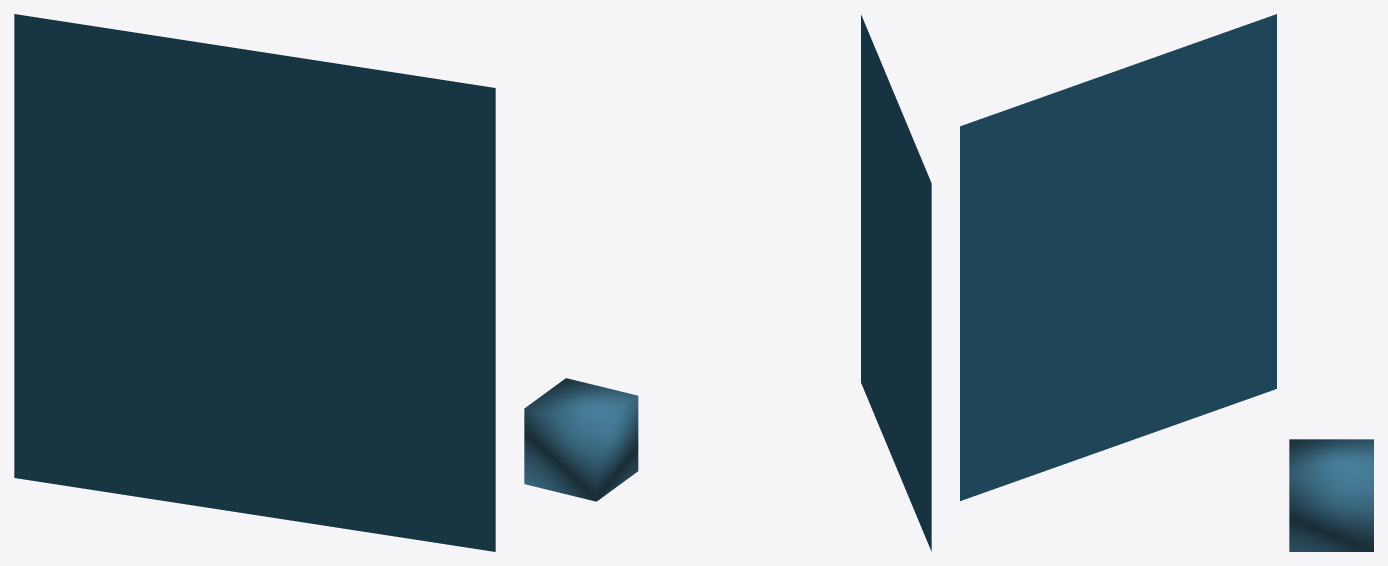
The model's file is axiom-main-banner.glb.
3 views of the same model, side by side, from view 1: azimuth 30°, elevation 25°; view 2: azimuth 150°, elevation 25°; view 3: azimuth 270°, elevation 25° (orthographic). The views are drawn at different scales.
Parts seen in each view (by area): view 1: Plane.001; view 2: Plane.001, Cube.001; view 3: Plane.001, Cube.001.
Boxes of the visible parts, x1,y1,x2,y2 form: Plane.001: (14,14,495,551); Plane.001: (861,14,931,551); Cube.001: (524,378,638,501); Plane.001: (960,14,1276,500); Cube.001: (1289,439,1373,551).
Size of the model in its own units: 27.52 by 26.96 by 26.98.
